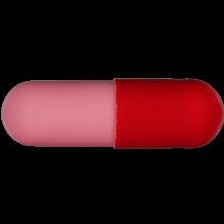67253-141: (0, 0, 224, 224)
